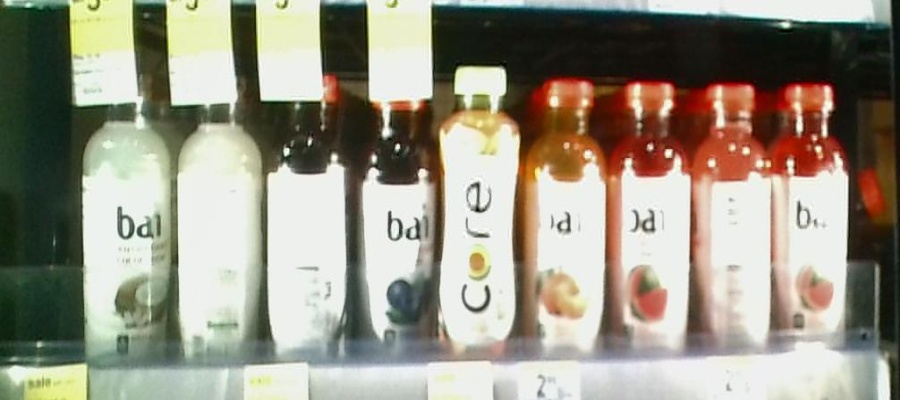bottle: (76, 81, 174, 368), (178, 69, 267, 362), (440, 52, 525, 358), (267, 72, 355, 360), (611, 69, 692, 357), (774, 64, 852, 361), (694, 61, 771, 359), (528, 69, 607, 355), (359, 81, 437, 357)
